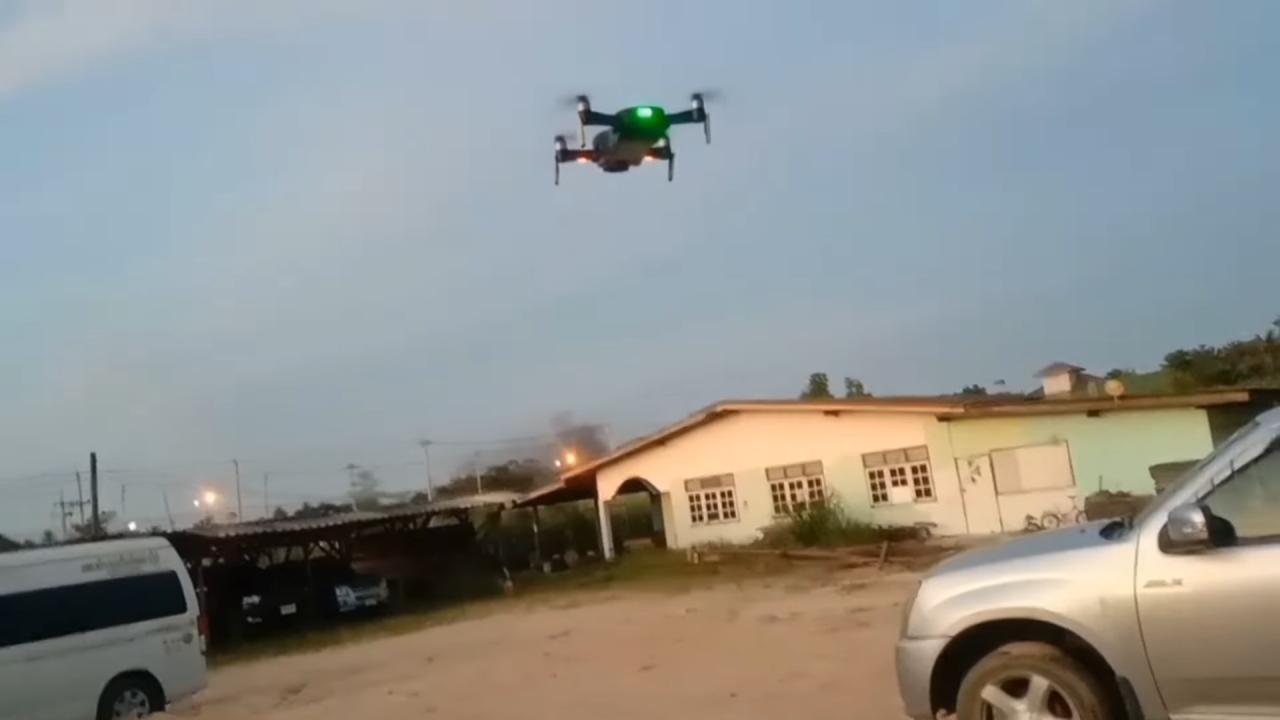Drone: (515, 72, 748, 198)
